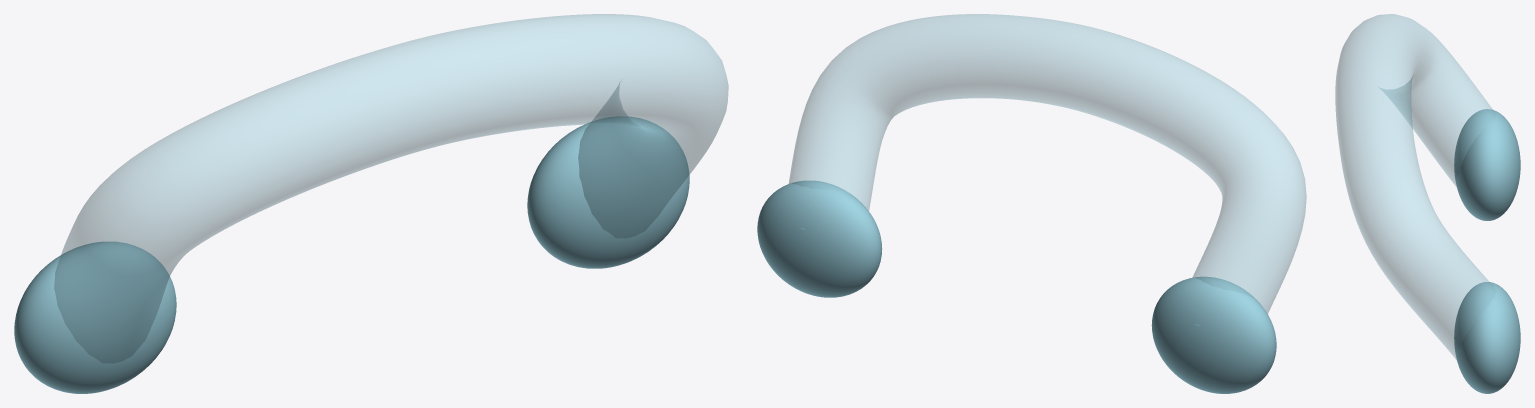
The picture shows the model from 3 angles, left to right: view 1: azimuth 30°, elevation 25°; view 2: azimuth 150°, elevation 25°; view 3: azimuth 270°, elevation 25°; orthographic projection. The views are drawn at different scales.
Parts seen in each view (by area): view 1: grip-handle, handle-anchor--0.86, handle-anchor-0.86; view 2: grip-handle, handle-anchor-0.86, handle-anchor--0.86; view 3: grip-handle, handle-anchor--0.86, handle-anchor-0.86.
Part boxes in pixels (x1=…): grip-handle: x1=54, y1=14, x2=728, y2=363; handle-anchor--0.86: x1=14, y1=241, x2=176, y2=393; handle-anchor-0.86: x1=527, y1=116, x2=689, y2=268; grip-handle: x1=789, y1=14, x2=1306, y2=325; handle-anchor-0.86: x1=757, y1=180, x2=882, y2=297; handle-anchor--0.86: x1=1151, y1=276, x2=1276, y2=393; grip-handle: x1=1335, y1=14, x2=1518, y2=359; handle-anchor--0.86: x1=1454, y1=109, x2=1520, y2=220; handle-anchor-0.86: x1=1454, y1=282, x2=1520, y2=393.
Bounding box in the file's own units: 2.24 × 1.11 × 0.7798.
